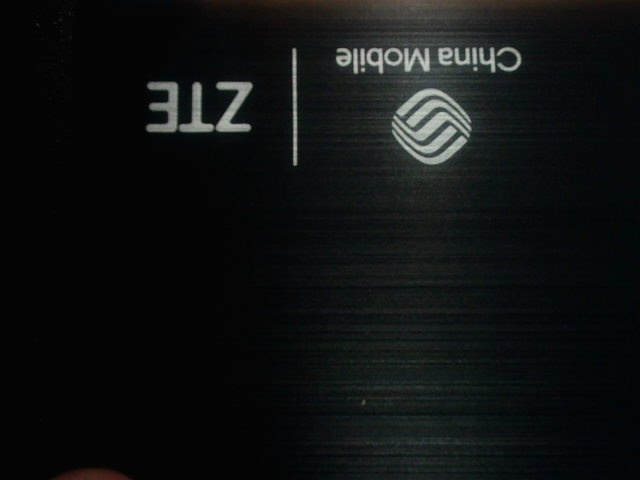AL_ZTEChinaMobile: (113, 29, 555, 184)
